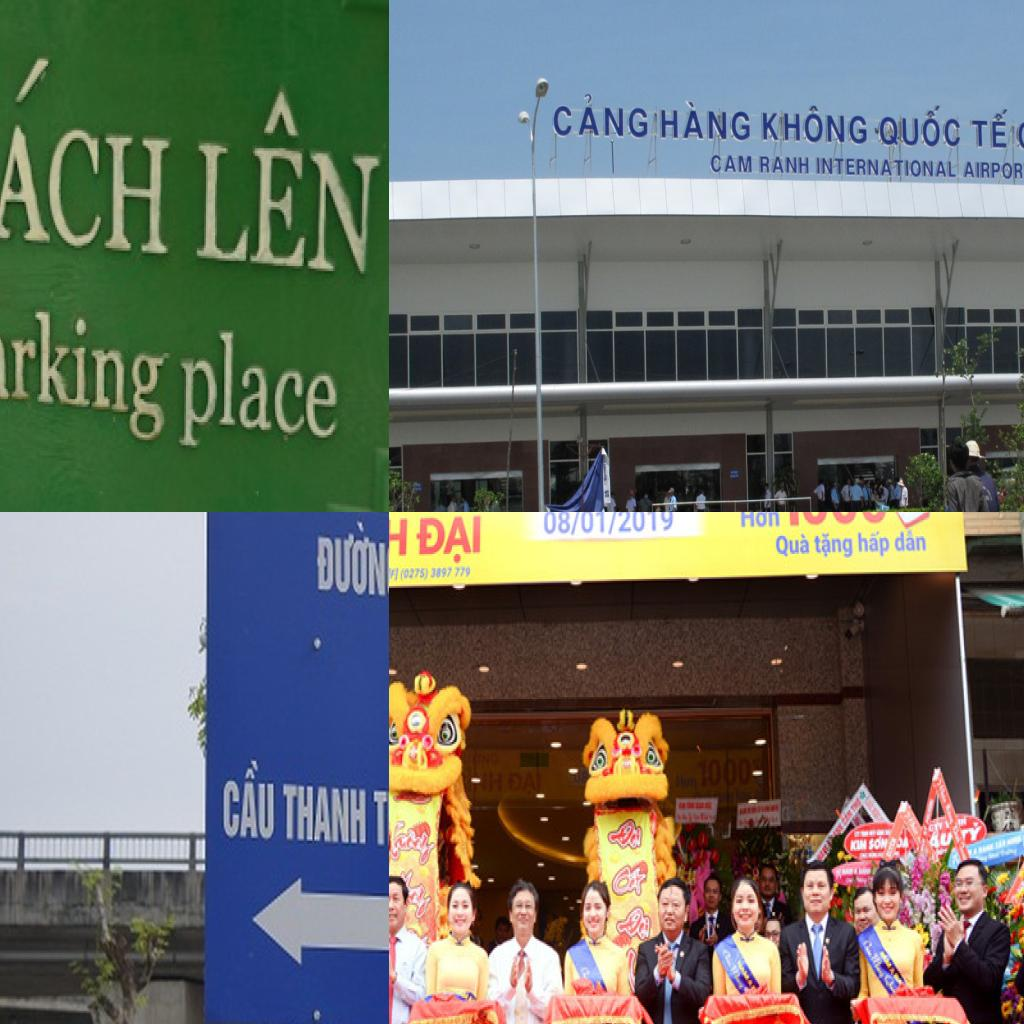text: (186, 76, 389, 309), (0, 38, 189, 273), (0, 283, 173, 460), (316, 517, 389, 603), (280, 780, 369, 848), (221, 755, 278, 845), (548, 90, 651, 139), (762, 101, 870, 146), (656, 95, 753, 145), (815, 149, 959, 181), (877, 102, 962, 150), (544, 512, 678, 541), (414, 512, 485, 564), (966, 102, 1010, 152), (777, 512, 892, 531), (696, 754, 756, 788), (614, 903, 656, 944), (606, 814, 646, 854), (398, 563, 472, 584), (812, 529, 856, 563), (610, 862, 649, 899), (761, 149, 812, 176), (372, 774, 389, 851), (856, 529, 894, 563), (895, 526, 933, 560), (706, 151, 756, 176), (389, 512, 412, 566), (773, 531, 813, 561), (508, 769, 546, 797), (466, 769, 505, 796), (737, 512, 782, 532), (960, 819, 983, 846), (728, 966, 748, 994), (870, 951, 888, 982), (928, 830, 954, 849), (675, 772, 700, 790), (735, 958, 753, 982), (862, 935, 877, 959), (880, 948, 894, 971), (841, 806, 855, 828), (868, 837, 890, 851), (721, 948, 735, 969), (849, 794, 864, 813), (849, 839, 868, 853), (979, 840, 995, 856), (389, 564, 401, 584), (928, 821, 945, 835), (994, 837, 1008, 851), (841, 868, 855, 876), (746, 978, 756, 988), (889, 966, 896, 978), (974, 846, 980, 856), (855, 866, 859, 876)
